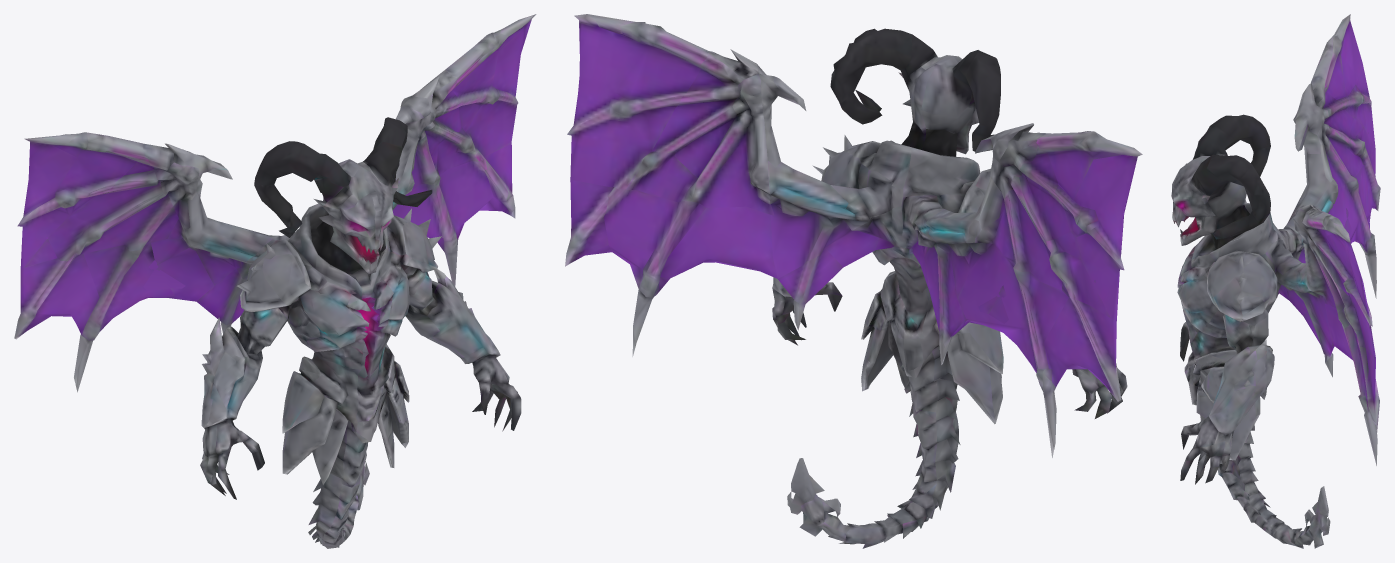
File: brood-d.glb
3 renders of one model, left to right at view 1: azimuth 30°, elevation 25°; view 2: azimuth 150°, elevation 25°; view 3: azimuth 270°, elevation 25°, orthographic. The views are drawn at different scales.
Parts seen in each view (by area): view 1: body; view 2: body; view 3: body.
Boxes of the visible parts, x1,y1,x2,y2 form: body: (14,14,536,548); body: (565,14,1142,548); body: (1171,14,1380,548).
Bounding box in the file's own units: 1 × 0.8353 × 0.3892.
Materials: 1 (1 with a texture image).
